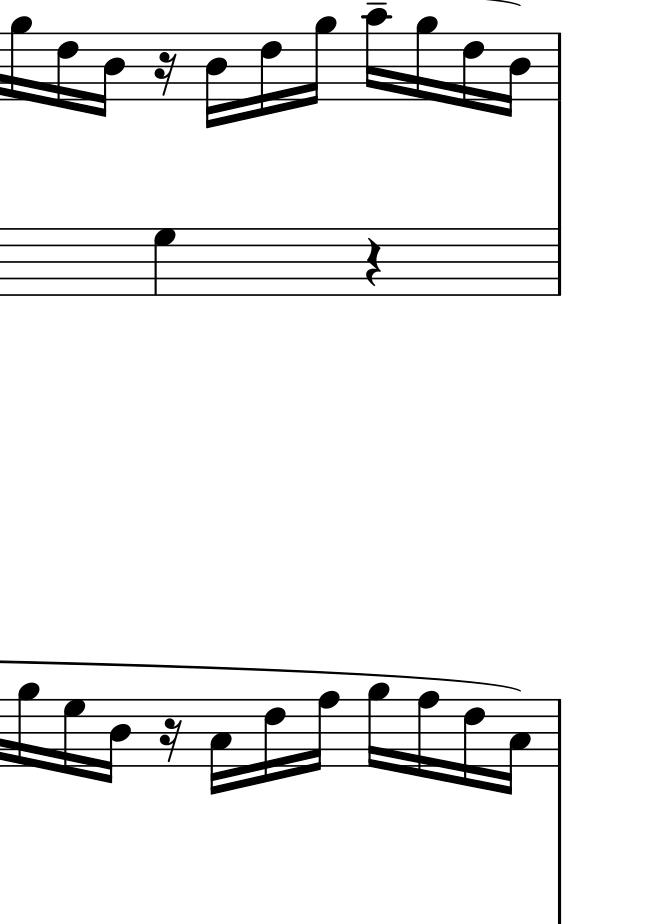16_10: (364, 9, 390, 101)
16_3: (500, 697, 530, 797), (208, 697, 232, 797)
16_4: (96, 29, 126, 120), (102, 695, 132, 786), (502, 29, 530, 121), (204, 31, 228, 130)
16_6: (461, 694, 485, 792), (262, 695, 286, 785), (259, 29, 283, 118), (56, 29, 80, 112), (462, 30, 486, 112)
16_7: (62, 696, 85, 780)
16_8: (307, 691, 339, 773), (415, 688, 439, 782)
16_9: (306, 13, 336, 110), (413, 12, 437, 108), (16, 678, 38, 774), (8, 15, 31, 102), (367, 682, 389, 771)
4_7: (152, 225, 178, 296)
Rests16: (153, 51, 178, 97), (158, 717, 183, 763)
Rests4: (363, 236, 385, 288)
Single_barline: (551, 230, 567, 295), (552, 698, 567, 767), (553, 33, 567, 100)
